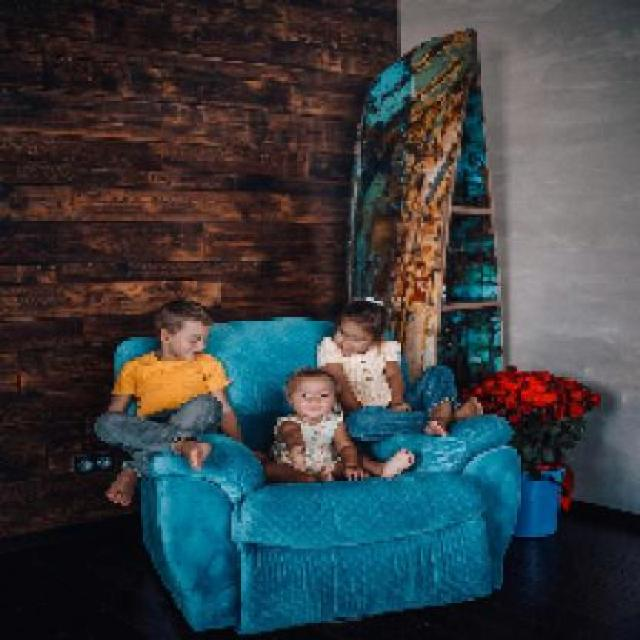child: (92, 300, 242, 503), (314, 296, 486, 438), (261, 366, 416, 486)
